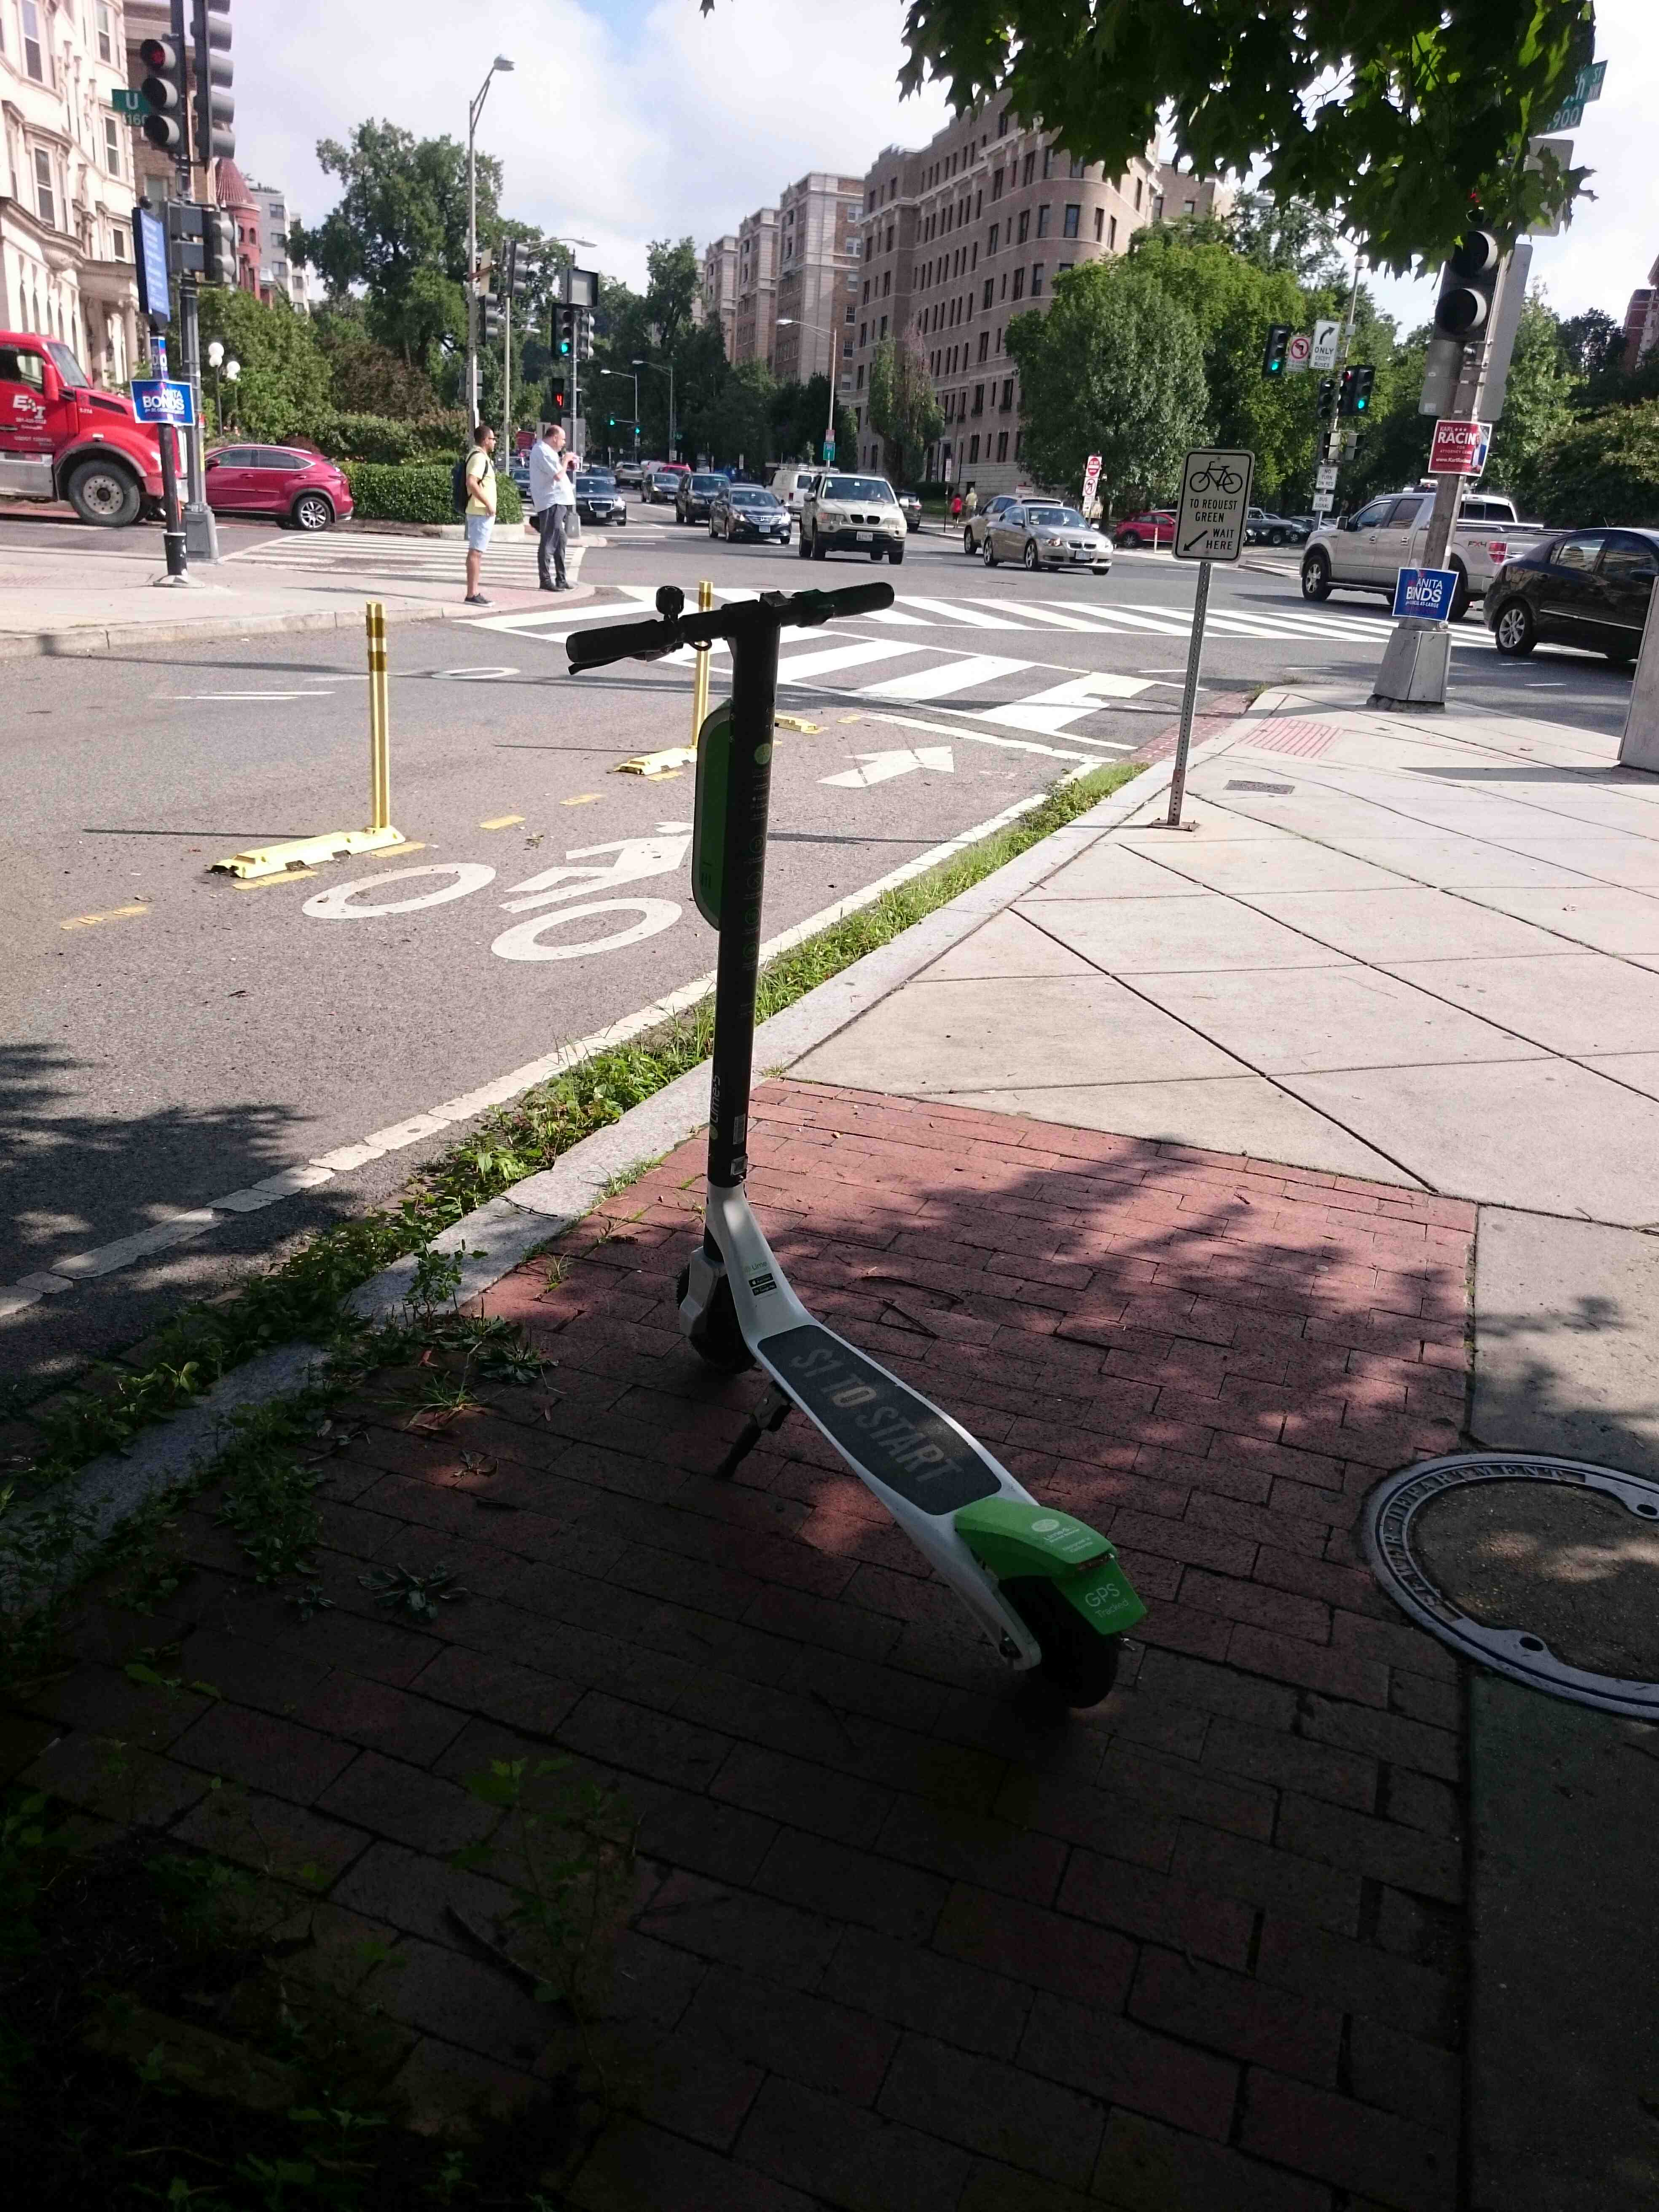scooter: (545, 585, 1140, 1735)
